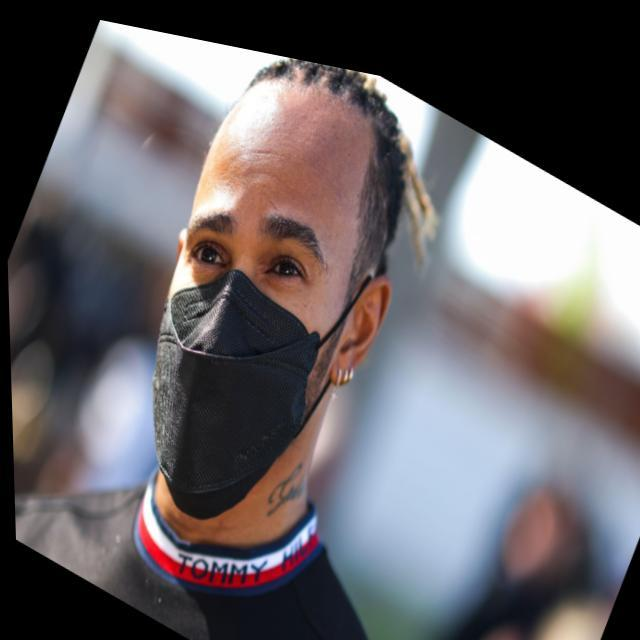Nonhelmet: (143, 56, 439, 520)
